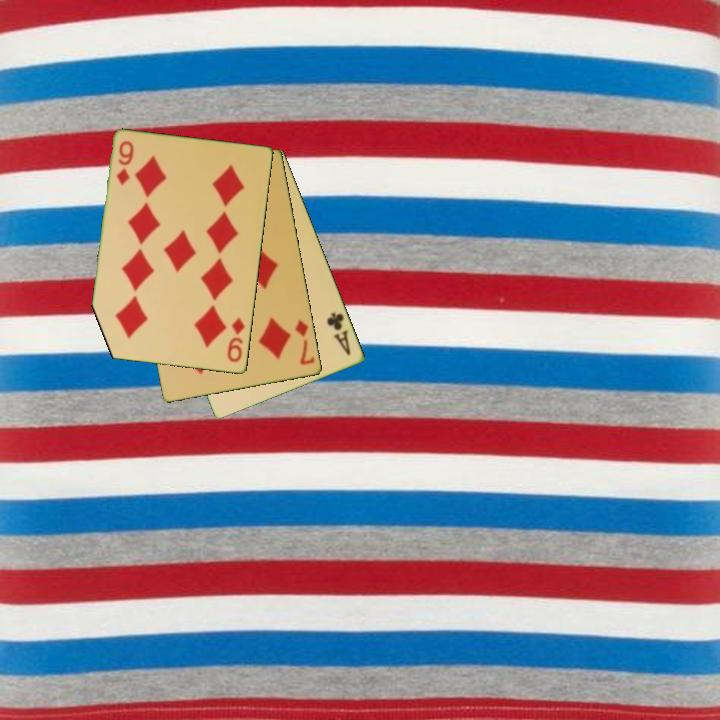7d: (292, 316, 318, 368)
9d: (224, 314, 248, 365), (113, 138, 137, 188)
Ac: (323, 309, 354, 359)
